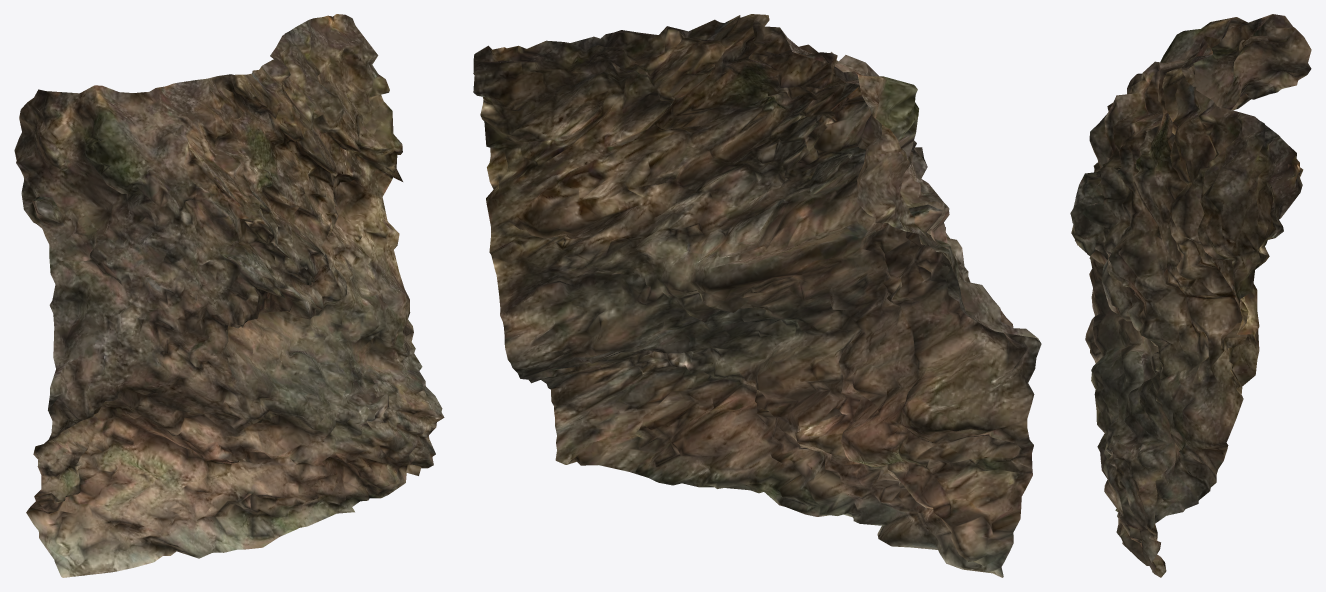
Rendered from mountainside.glb.
The picture shows the model from 3 angles, left to right: view 1: azimuth 30°, elevation 25°; view 2: azimuth 150°, elevation 25°; view 3: azimuth 270°, elevation 25°; orthographic projection. The views are drawn at different scales.
Parts seen in each view (by area): view 1: mountainside; view 2: mountainside; view 3: mountainside.
Boxes of the visible parts, bbox=[...] form: mountainside: bbox=[14, 14, 444, 577]; mountainside: bbox=[473, 14, 1041, 577]; mountainside: bbox=[1070, 14, 1311, 577].
Bounding box in the file's own units: 10.2 × 10.52 × 5.25.
Materials: 1 (1 with a texture image).
